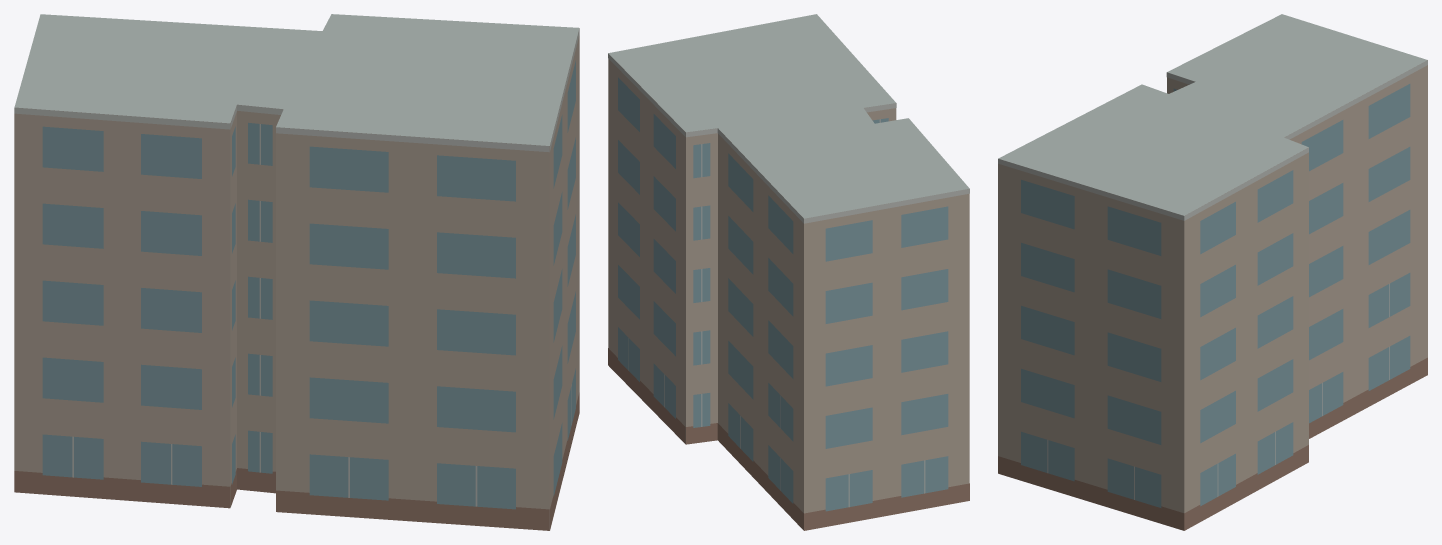
Rendered from survey-upis-32505060.glb.
3 views of the same model, side by side, from view 1: azimuth 30°, elevation 25°; view 2: azimuth 150°, elevation 25°; view 3: azimuth 270°, elevation 25° (orthographic). The views are drawn at different scales.
Visible parts, largest first — view 1: survey-upis-32505060.tmp; view 2: survey-upis-32505060.tmp; view 3: survey-upis-32505060.tmp.
Boxes of the visible parts, box(x1,y1,x2,y2) form: survey-upis-32505060.tmp: box(14, 14, 579, 530); survey-upis-32505060.tmp: box(608, 14, 969, 530); survey-upis-32505060.tmp: box(998, 14, 1427, 530).
Bounding box in the file's own units: 20.97 × 15.25 × 18.87.
